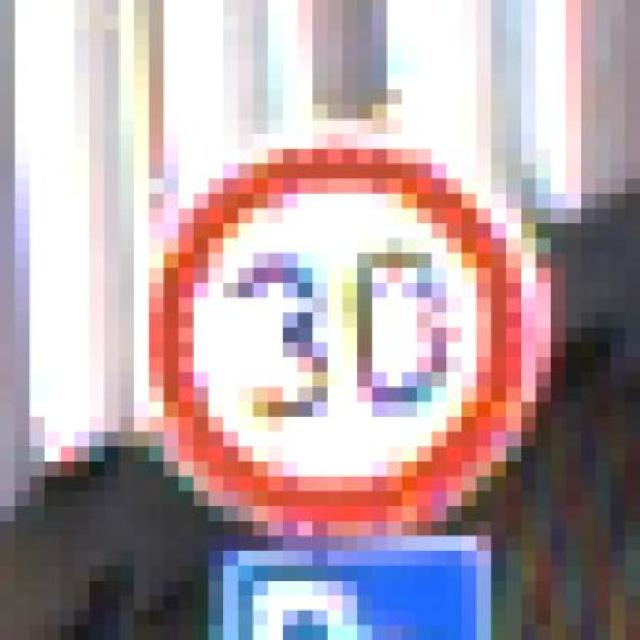Speed Limit 30 KMPh: (104, 119, 565, 536)
